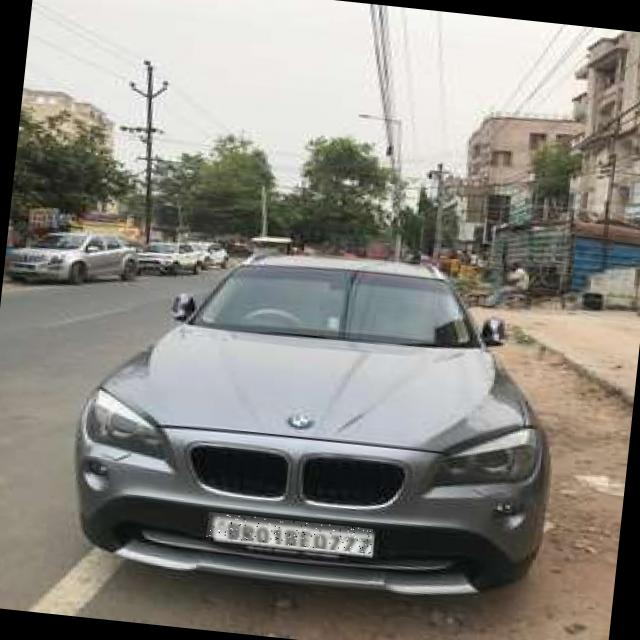Plate: (207, 513, 374, 555)
